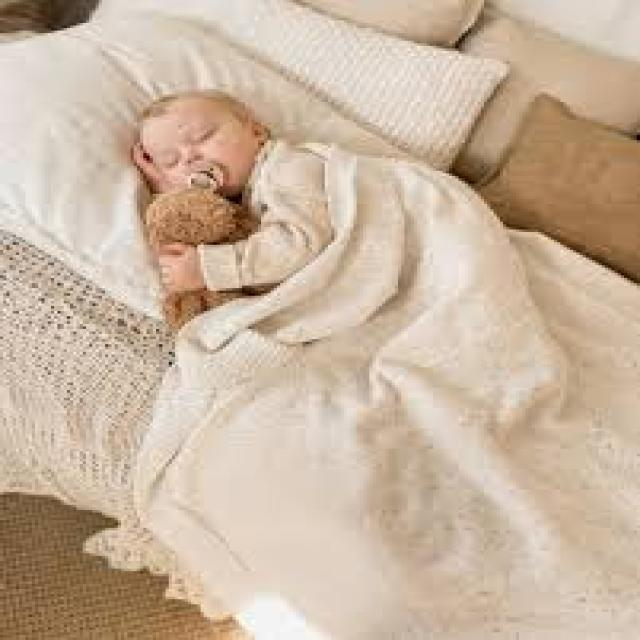blanket: (3, 25, 635, 640)
